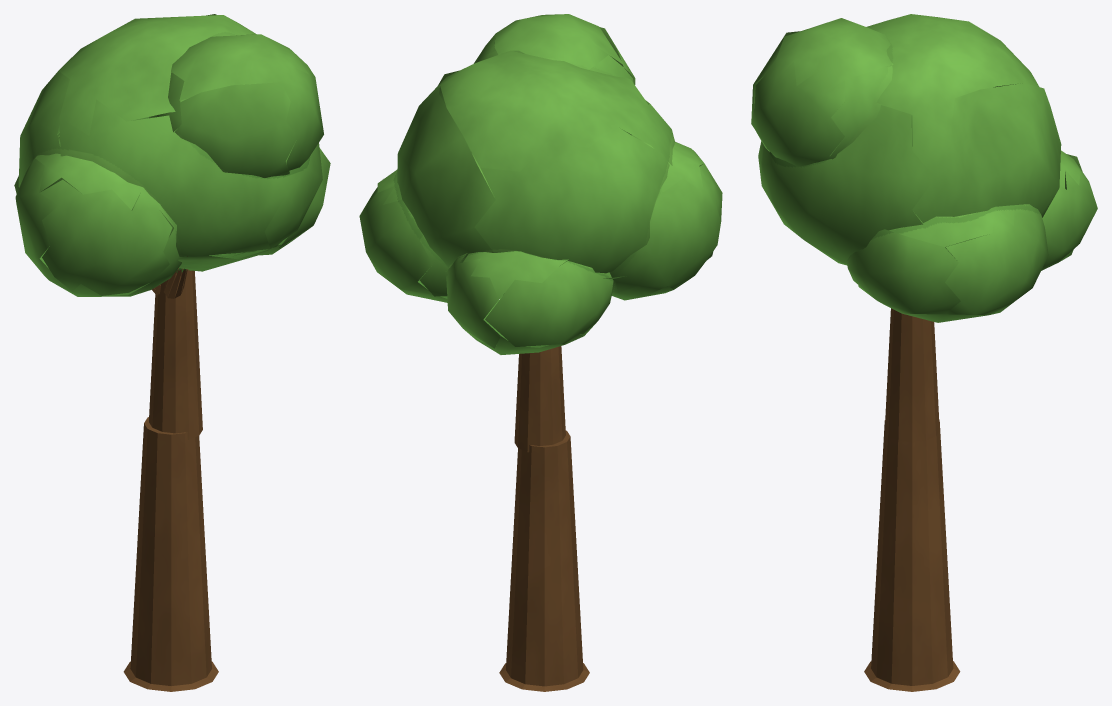
The model's file is broadleaf_b.hi.glb.
The picture shows the model from 3 angles, left to right: view 1: azimuth 30°, elevation 25°; view 2: azimuth 150°, elevation 25°; view 3: azimuth 270°, elevation 25°; orthographic projection. The views are drawn at different scales.
Parts seen in each view (by area): view 1: broadleaf; view 2: broadleaf; view 3: broadleaf.
Part boxes in pixels (x1,y1,x2,y2): broadleaf: (14,14,330,691); broadleaf: (359,14,722,691); broadleaf: (751,14,1097,691).
Bounding box in the file's own units: 4.33 × 8.4 × 4.03.
Materials: 1 (1 with a texture image).
